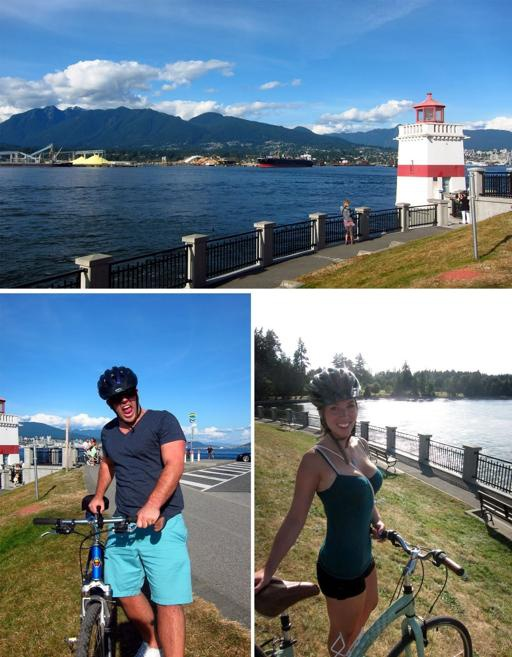non-vehicle: (254, 529, 471, 657), (33, 493, 137, 656)
